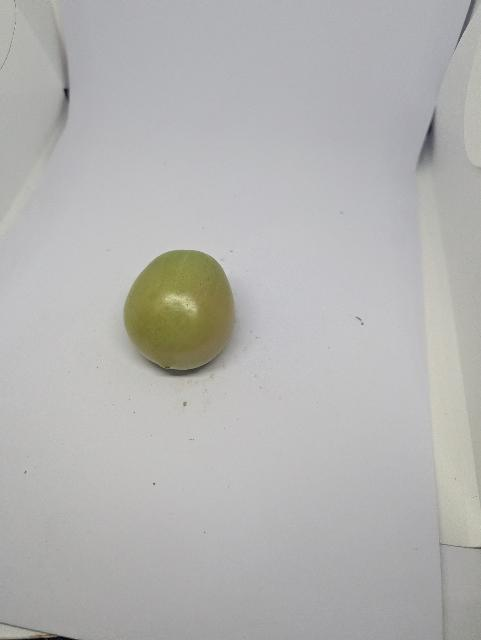breaker: (122, 248, 239, 371)
